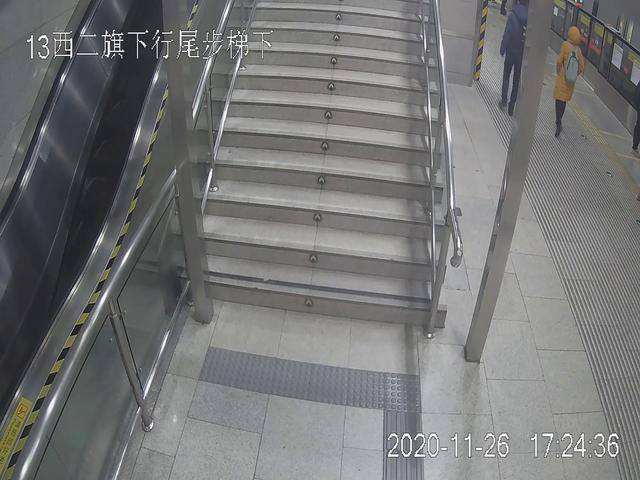person: (498, 1, 534, 114), (552, 25, 581, 138)
